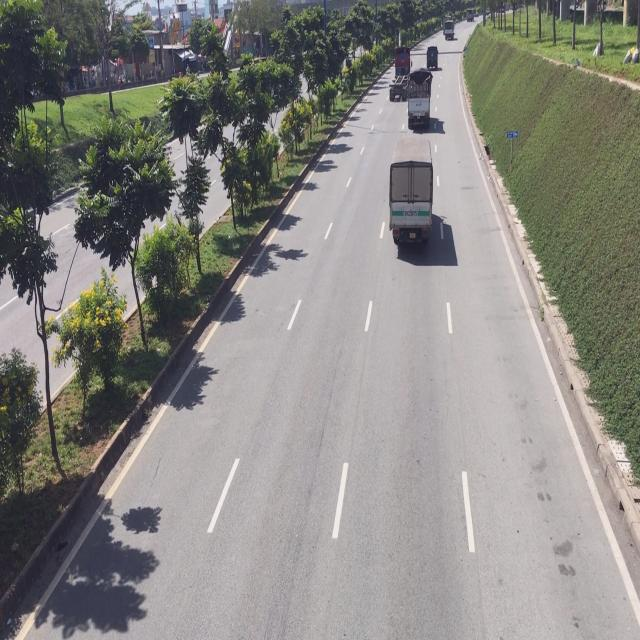truck: (388, 146, 435, 252), (408, 68, 432, 128), (389, 47, 412, 103), (425, 44, 439, 72)
